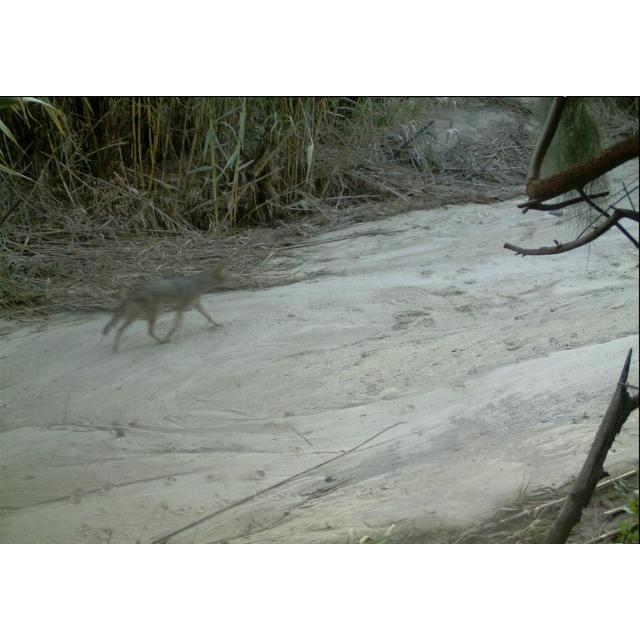animals: (99, 265, 234, 357)
